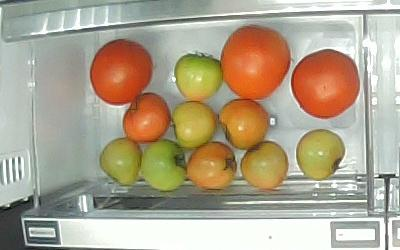tomato: (220, 25, 292, 101), (290, 49, 360, 119), (90, 39, 153, 105), (186, 142, 238, 192), (296, 129, 346, 180), (219, 99, 269, 149), (122, 93, 172, 143), (240, 141, 289, 191), (141, 138, 187, 191), (174, 53, 222, 102), (171, 101, 218, 149), (99, 137, 142, 186)
